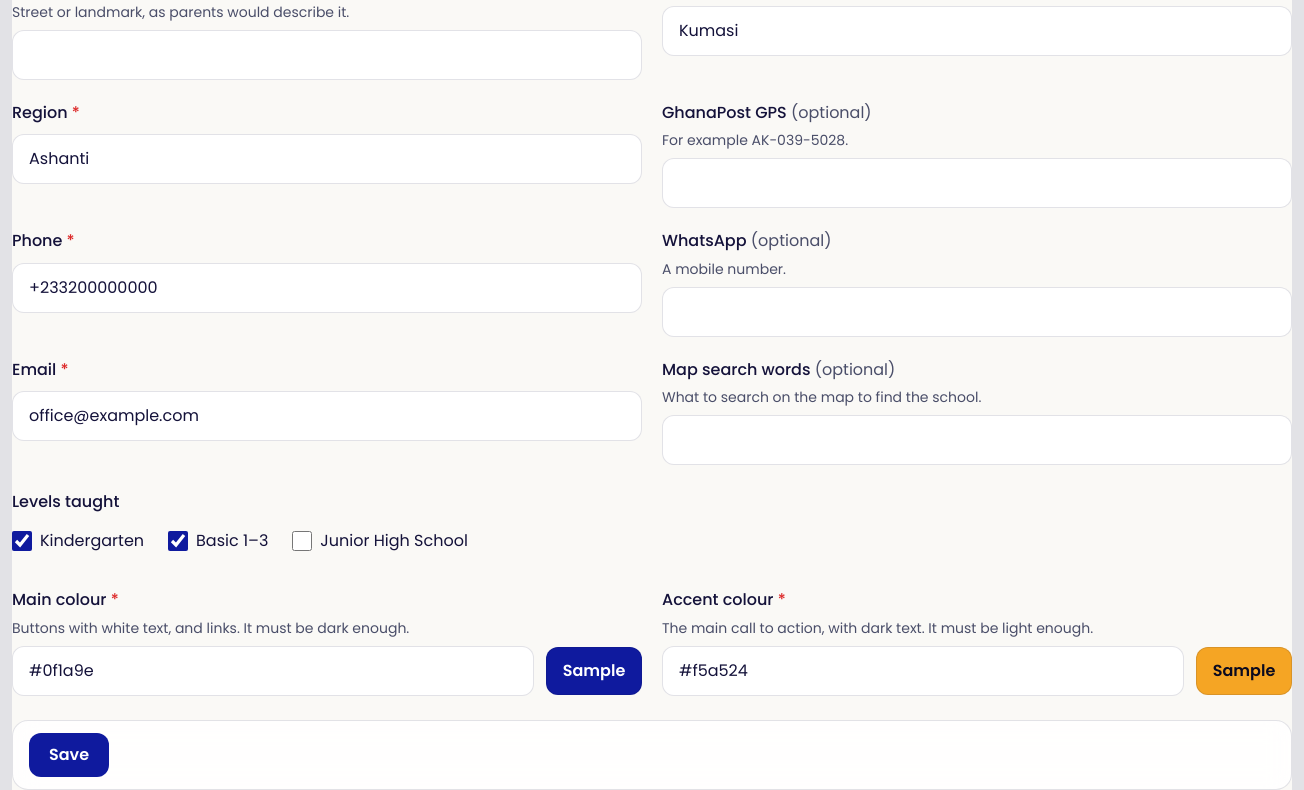
Scenario: ProfileForm › shows the server's colour advice and applies its suggestion
(page scrolled)
Replace the text in the field labelled "Main colour *" with "#ffff00" at (273, 671), box [12,646,534,696]
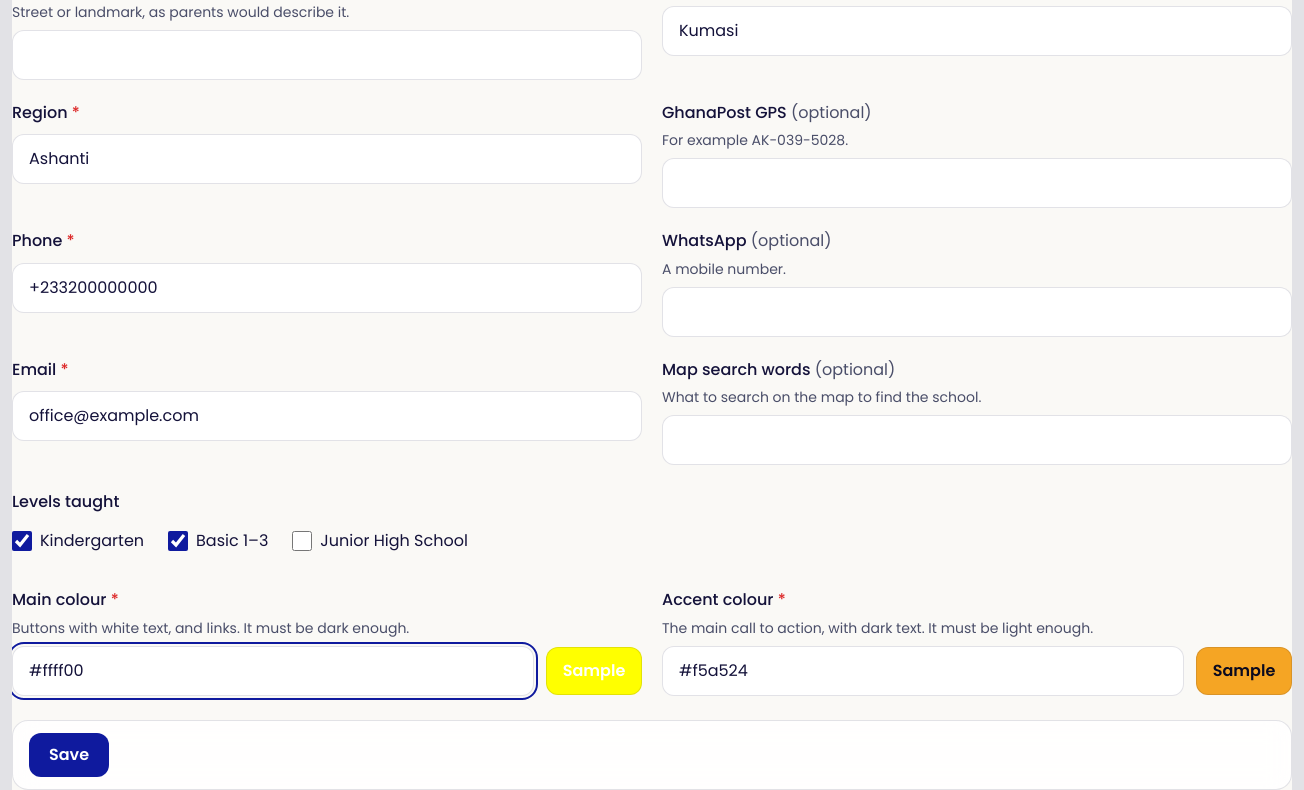
Click the button "Save" at (69, 755), box [29,733,109,777]
(page scrolled)
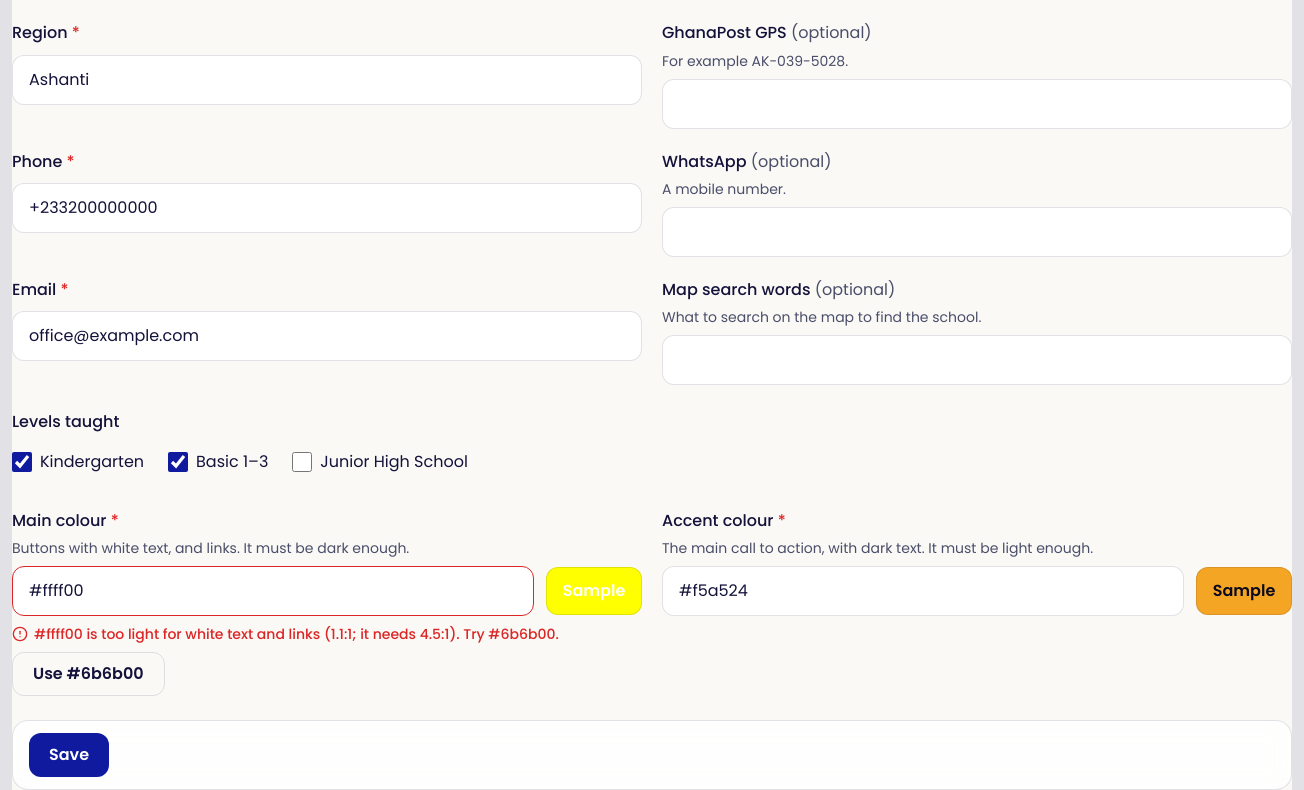
expect the text "too light for white text" is shown: met, box [34,624,559,644]
Click the button "Use #6b6b00" at (88, 674), box [12,652,165,696]
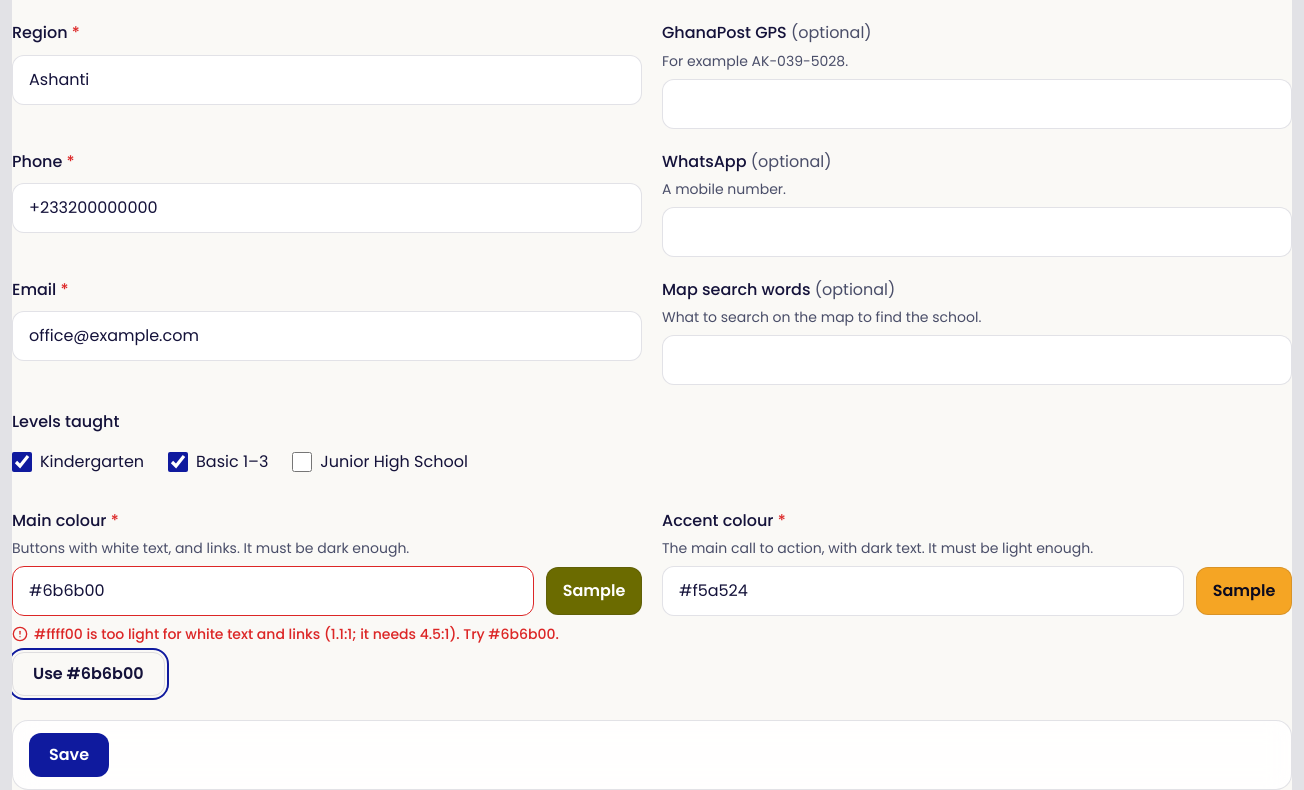
expect the field labelled "Main colour *" holds "#6b6b00": met, box [12,566,534,616]
